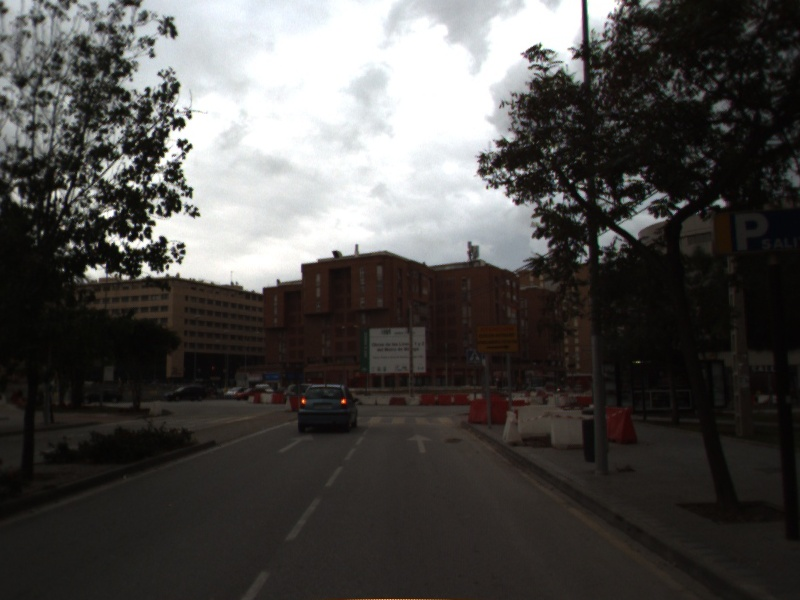STRAIGHT: (275, 431, 316, 455), (405, 431, 434, 455)
